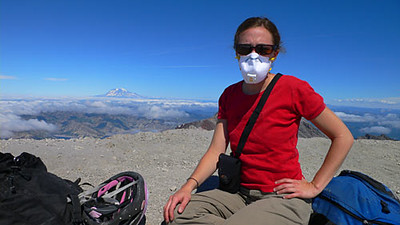n95: (233, 51, 275, 85)
